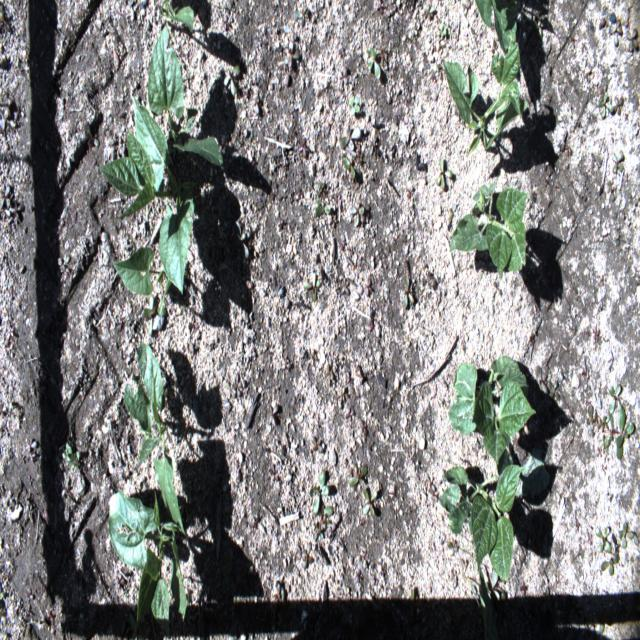crop: (96, 23, 224, 317), (441, 451, 548, 582), (442, 0, 527, 155), (108, 488, 187, 640), (124, 342, 185, 537), (450, 356, 536, 465), (448, 175, 531, 281)
weed: (602, 407, 636, 460), (310, 469, 329, 517), (140, 296, 156, 338), (339, 125, 362, 151), (484, 565, 500, 601), (607, 382, 624, 415), (303, 272, 320, 304), (365, 46, 381, 80), (223, 65, 240, 97), (63, 440, 81, 470), (437, 154, 452, 190), (595, 90, 613, 120), (401, 275, 415, 310), (348, 463, 368, 487), (618, 521, 634, 550), (595, 526, 612, 553), (362, 488, 377, 518), (348, 201, 365, 227), (339, 156, 356, 181), (609, 18, 623, 48), (601, 556, 619, 577), (624, 27, 638, 54), (611, 150, 624, 176), (610, 96, 624, 116), (314, 201, 330, 217), (349, 95, 360, 118), (439, 23, 447, 38)
